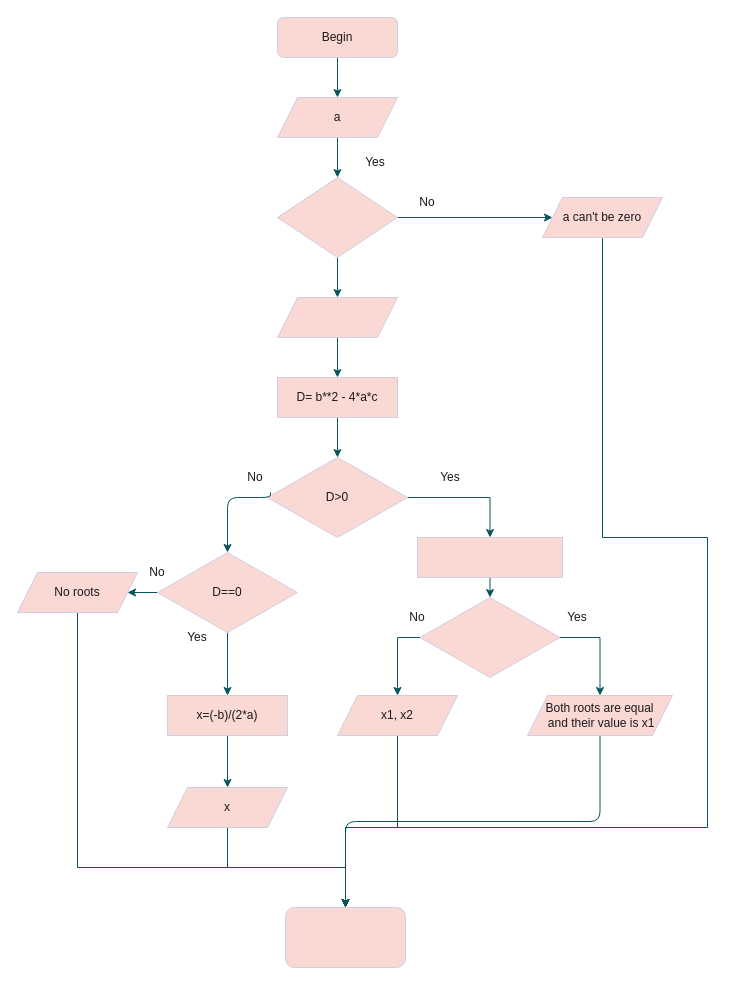
Image size: 733x985. Some labels were removed from this diagram. Here are the shapes that lost their labels. From the top down, the box of each, then its label:
(276, 176, 398, 258): a!=0
(276, 296, 398, 338): b, c
(416, 536, 562, 578): x1=(-b + (D)**0,5)/(2*a) x2=(-b - (D)**0,5)/(2*a)
(419, 596, 560, 678): x1=x2
(284, 906, 406, 968): End
